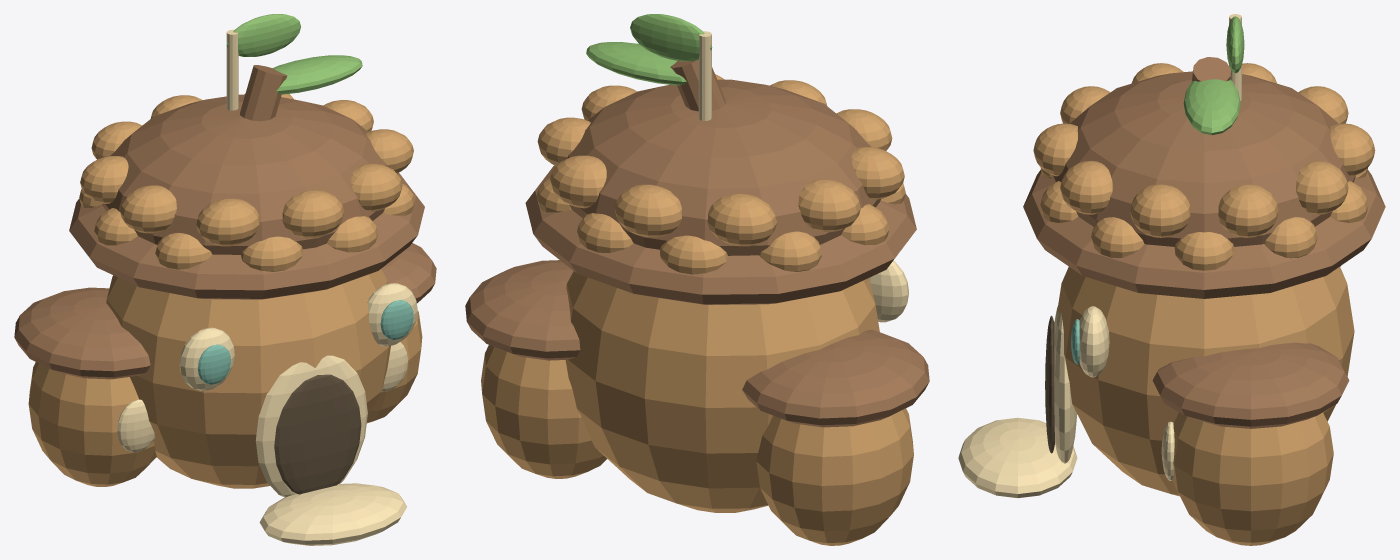
The model's file is AntAcornHome3.fbx.
3 views of the same model, side by side, from view 1: azimuth 30°, elevation 25°; view 2: azimuth 150°, elevation 25°; view 3: azimuth 270°, elevation 25° (orthographic). The views are drawn at different scales.
Parts seen in each view (by area): view 1: Acorn body.002, Cap dome.002, Cap brim.002, Extra sleeping room.001, Room cap.001, Round doorway.002, Doorstep.002, Round door frame.002, Carved cap scale.056, Carved cap scale.057, Stem leaf.002, Carved cap scale.055 (+22 smaller); view 2: Acorn body.002, Cap dome.002, Extra sleeping room.001, Cap brim.002, Room cap.001, Extra sleeping room.002, Room cap.002, Carved cap scale.053, Carved cap scale.052, Carved cap scale.054, Leaf pennant, Stem leaf.002 (+14 smaller); view 3: Acorn body.002, Cap dome.002, Extra sleeping room.002, Cap brim.002, Room cap.002, Doorstep.002, Stem leaf.002, Carved cap scale.050, Carved cap scale.059, Round door frame.002, Carved cap scale.058, Carved cap scale.051 (+15 smaller).
Part boxes in pixels (x1,y1,x2,y2): Acorn body.002: [106, 269, 390, 488]; Cap dome.002: [101, 94, 386, 254]; Cap brim.002: [69, 173, 424, 299]; Extra sleeping room.001: [28, 362, 156, 486]; Room cap.001: [14, 287, 150, 379]; Round doorway.002: [274, 374, 361, 494]; Doorstep.002: [259, 483, 406, 545]; Round door frame.002: [255, 355, 367, 497]; Carved cap scale.056: [196, 198, 259, 246]; Carved cap scale.057: [282, 190, 343, 237]; Stem leaf.002: [273, 55, 362, 94]; Carved cap scale.055: [120, 185, 176, 233]; Acorn body.002: [565, 271, 879, 512]; Cap dome.002: [567, 79, 880, 255]; Extra sleeping room.001: [756, 408, 913, 545]; Cap brim.002: [525, 165, 916, 304]; Room cap.001: [742, 330, 929, 427]; Extra sleeping room.002: [481, 345, 606, 478]; Room cap.002: [465, 260, 580, 360]; Carved cap scale.053: [707, 193, 776, 246]; Carved cap scale.052: [614, 184, 681, 237]; Carved cap scale.054: [798, 179, 860, 231]; Leaf pennant: [630, 14, 712, 61]; Stem leaf.002: [586, 42, 686, 85]; Acorn body.002: [1057, 266, 1354, 496]; Cap dome.002: [1053, 71, 1355, 246]; Extra sleeping room.002: [1172, 412, 1333, 545]; Cap brim.002: [1023, 169, 1385, 298]; Room cap.002: [1152, 342, 1349, 428]; Doorstep.002: [958, 417, 1077, 498]; Stem leaf.002: [1183, 79, 1240, 135]; Carved cap scale.050: [1218, 184, 1278, 237]; Carved cap scale.059: [1130, 184, 1190, 237]; Round door frame.002: [1054, 306, 1077, 463]; Carved cap scale.058: [1060, 160, 1112, 214]; Carved cap scale.051: [1296, 160, 1348, 214].
Bounding box in the file's own units: 192 × 204 × 165.
